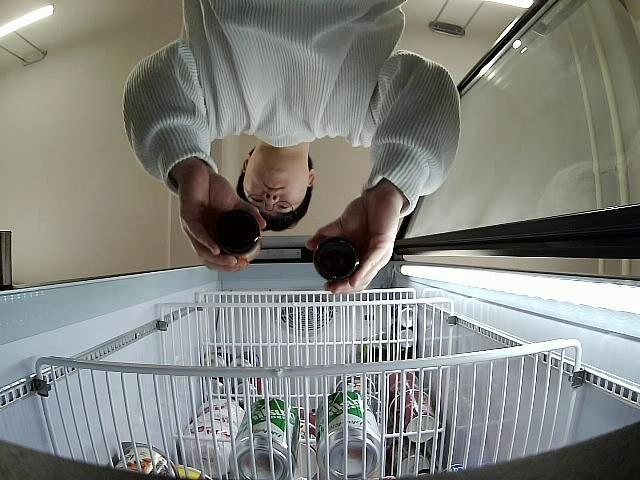17_vita500: (210, 206, 262, 262), (312, 237, 361, 282)
